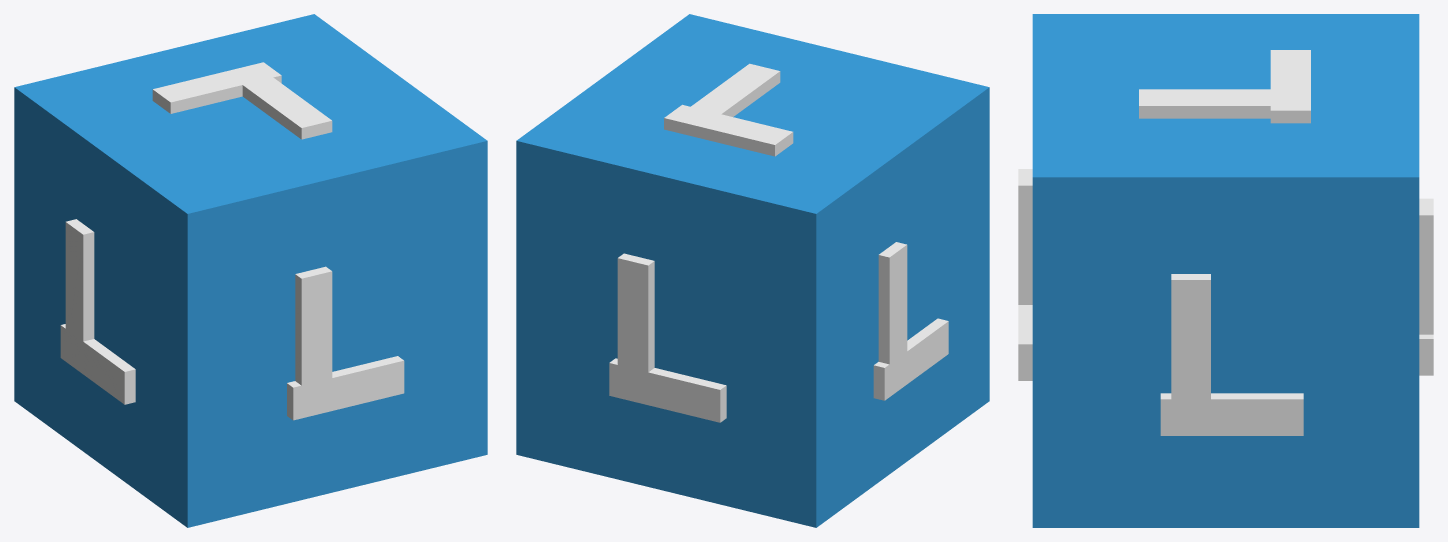
Rendered from DISTRACTOR_8.glb.
3 renders of one model, left to right at view 1: azimuth 30°, elevation 25°; view 2: azimuth 150°, elevation 25°; view 3: azimuth 270°, elevation 25°, orthographic. The views are drawn at different scales.
Visible parts, largest first — view 1: DISTRACTOR_HIGH_8; view 2: DISTRACTOR_HIGH_8; view 3: DISTRACTOR_HIGH_8.
Boxes of the visible parts, x1,y1,x2,y2 form: DISTRACTOR_HIGH_8: (14,14,487,527); DISTRACTOR_HIGH_8: (516,14,989,527); DISTRACTOR_HIGH_8: (1018,14,1433,527).
Bounding box in the file's own units: 2.15 × 2.15 × 2.15.
